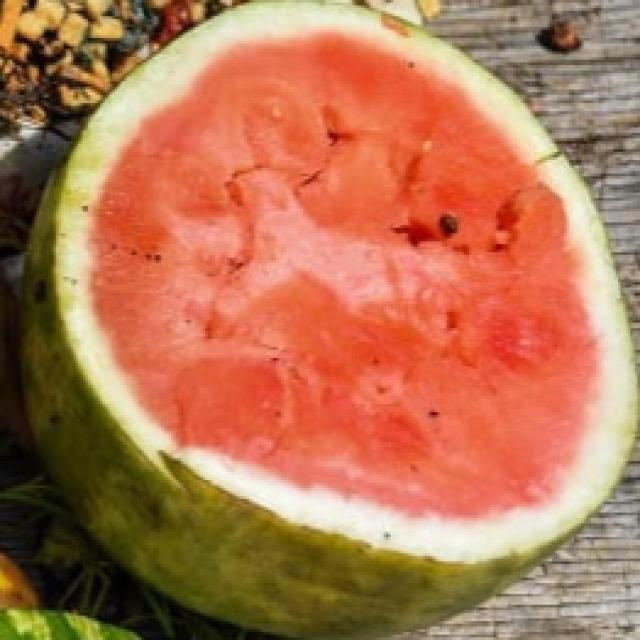food waste: (22, 0, 640, 624)
